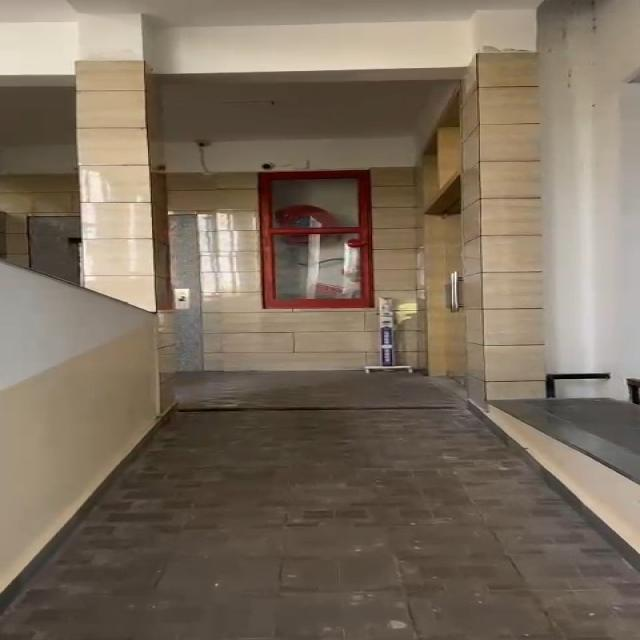floor: (153, 376, 509, 640)
wall: (0, 0, 257, 412), (384, 4, 640, 382)
